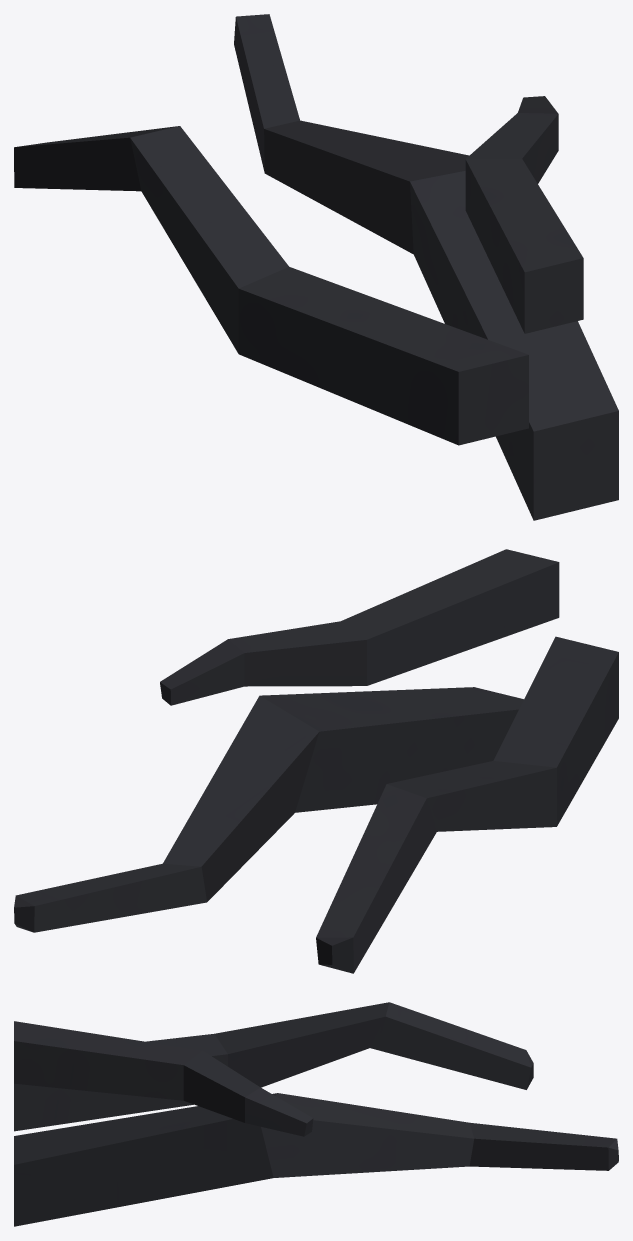
The model's file is all_share_dead_tree_1.FBX.
3 views of the same model, one above another, from view 1: azimuth 30°, elevation 25°; view 2: azimuth 150°, elevation 25°; view 3: azimuth 270°, elevation 25° (orthographic). The views are drawn at different scales.
Visible parts, largest first — view 1: winter_night_stick_1; view 2: winter_night_stick_1; view 3: winter_night_stick_1.
Part boxes in pixels (x1,y1,x2,y2): winter_night_stick_1: [14, 14, 618, 520]; winter_night_stick_1: [14, 549, 618, 973]; winter_night_stick_1: [14, 1002, 618, 1226].
Bounding box in the file's own units: 63.59 × 40.83 × 129.
